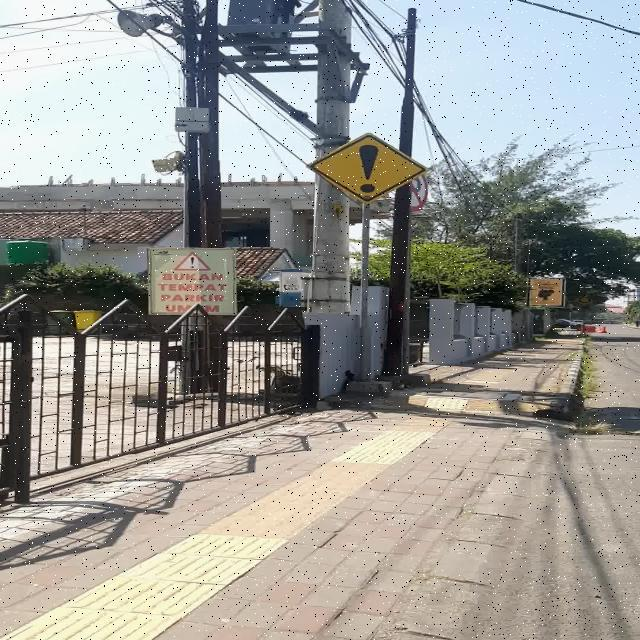Hati-Hati: (306, 132, 428, 204)
